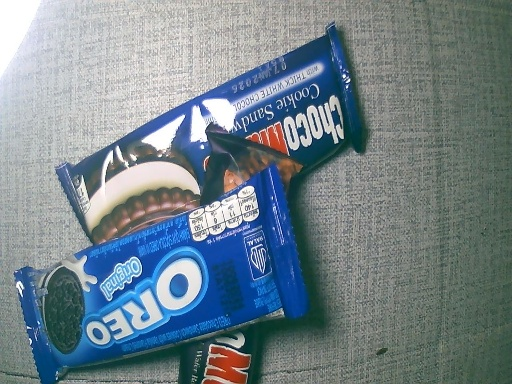plastic: (62, 24, 362, 242), (19, 173, 307, 375), (178, 123, 305, 384)
